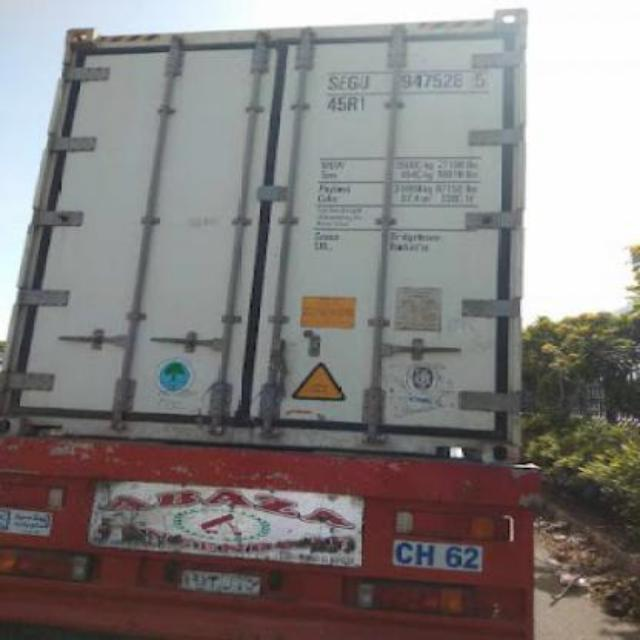2: (442, 72, 454, 88)
4: (412, 74, 422, 88)
5: (474, 72, 486, 90), (434, 72, 444, 90)
7: (422, 74, 434, 88)
8: (452, 72, 464, 88)
9: (400, 74, 412, 90)
E: (338, 75, 348, 91)
G: (348, 75, 360, 88)
S: (326, 72, 338, 90)
U: (356, 75, 372, 91)
